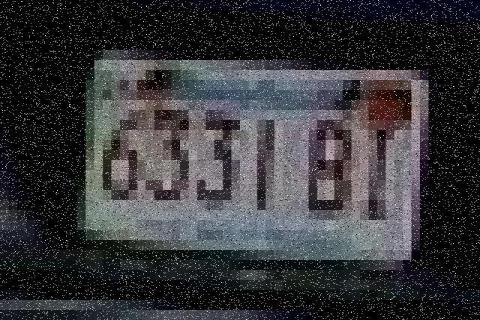LicensePlate: (56, 30, 436, 298)
